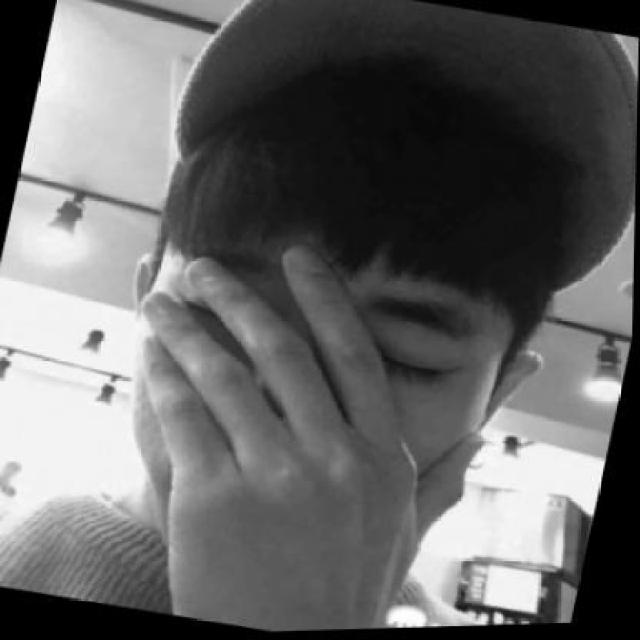hat: (144, 0, 640, 315)
